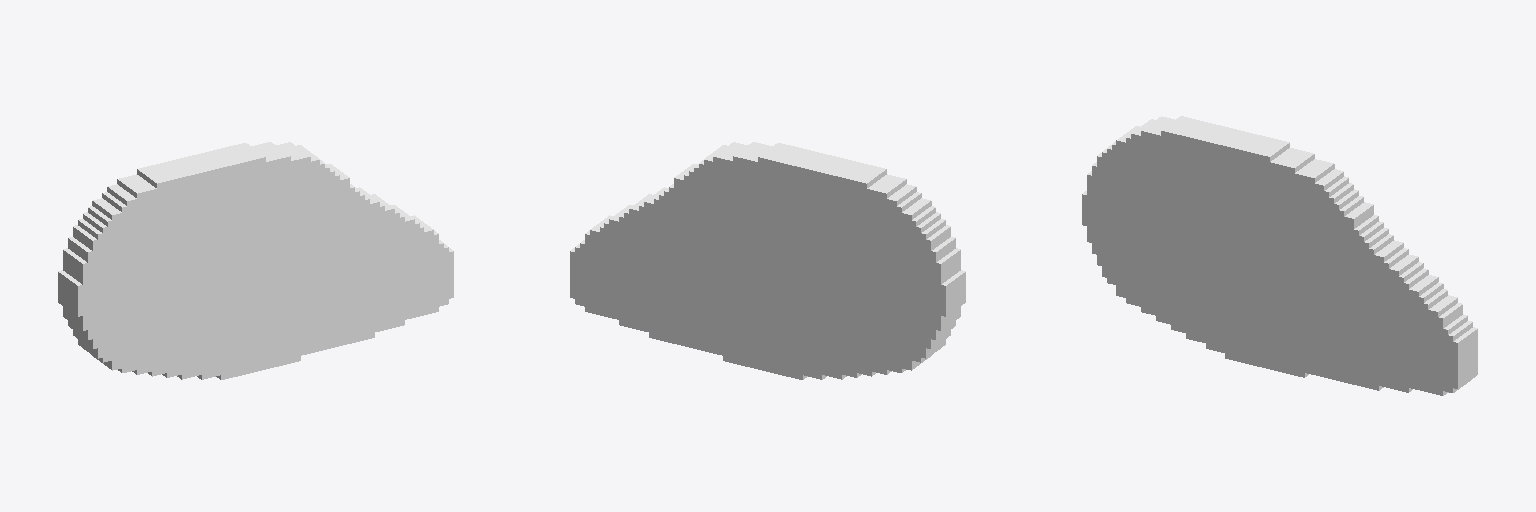
File: CarneMonstro.obj
The picture shows the model from 3 angles: view 1: azimuth 30°, elevation 25°; view 2: azimuth 150°, elevation 25°; view 3: azimuth 330°, elevation 25°; orthographic projection.
Parts seen in each view (by area): view 1: object 1; view 2: object 1; view 3: object 1.
Boxes of the visible parts, box(x1,y1,x2,y2) form: object 1: box(58, 142, 453, 379); object 1: box(570, 142, 965, 379); object 1: box(1082, 116, 1477, 395).
Size of the model in its own units: 7.6 by 4.1 by 0.7.